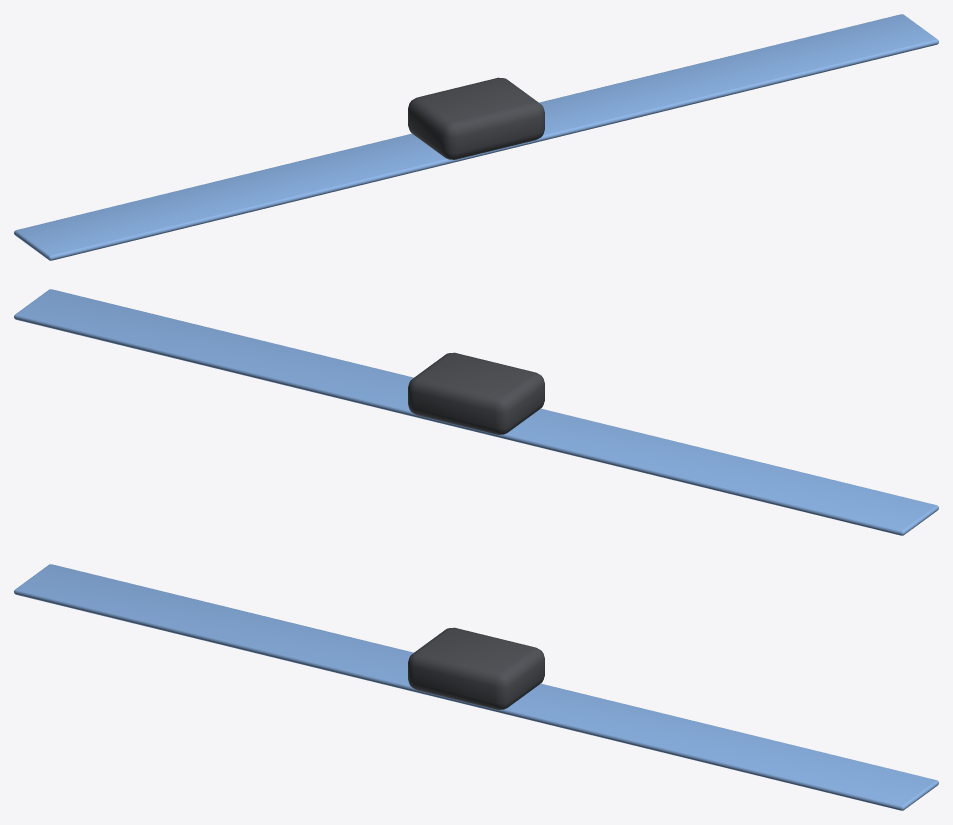
File: garrot.glb
3 views of the same model, one above another, from view 1: azimuth 30°, elevation 25°; view 2: azimuth 150°, elevation 25°; view 3: azimuth 330°, elevation 25° (orthographic).
Visible parts, largest first — view 1: garrot; view 2: garrot; view 3: garrot.
Part boxes in pixels (box(x1,y1,x2,y2)): garrot: box(14, 14, 938, 260); garrot: box(14, 289, 938, 535); garrot: box(14, 564, 938, 810).
Size of the model in its own units: 0.35 by 0.015 by 0.03.
